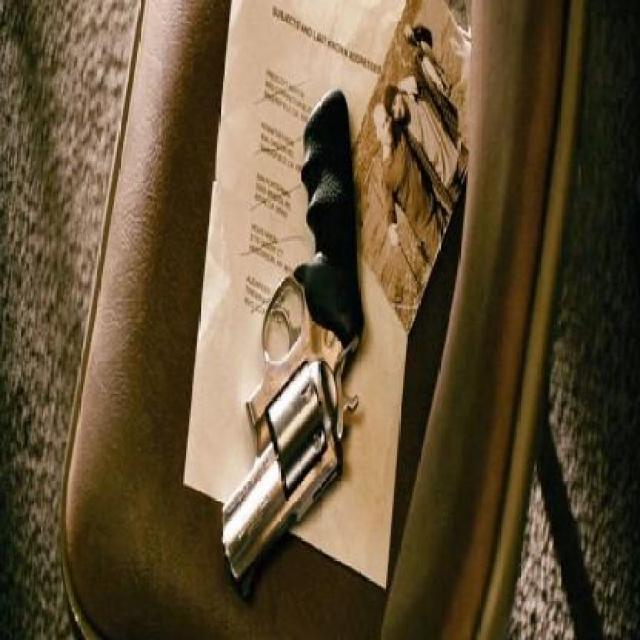gun: (233, 42, 376, 556)
